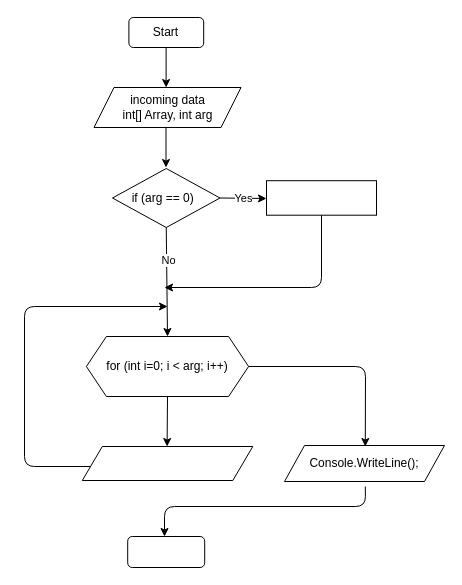
The diagram is 462 pixels wide and 585 high, and some of its shapes have lost their labels. The box of each missing label's shape, as (x1, y1, x2, y2) in pixels:
arg = Array.Length: (266, 180, 376, 215)
Console.Write(Array[i]);: (81, 446, 253, 480)
End: (127, 536, 205, 568)
